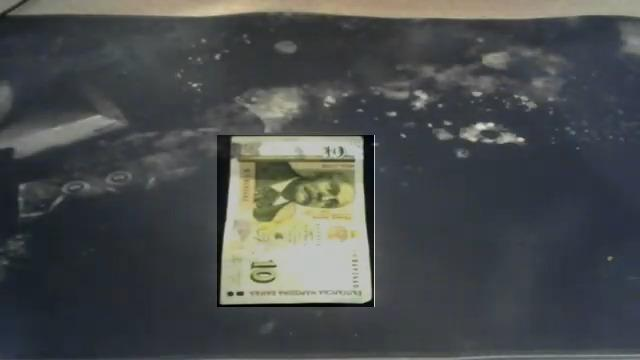10leva: (217, 135, 375, 307), (217, 135, 375, 306), (217, 135, 374, 307)
